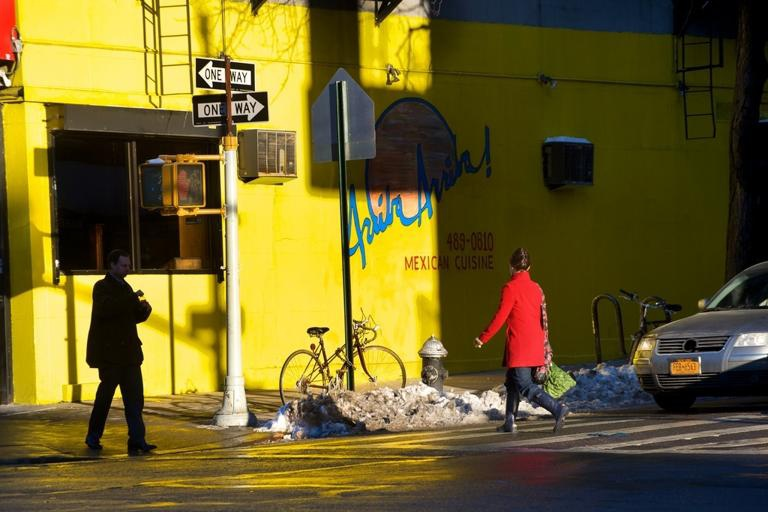non-vehicle: (278, 316, 407, 412), (619, 285, 681, 367)
